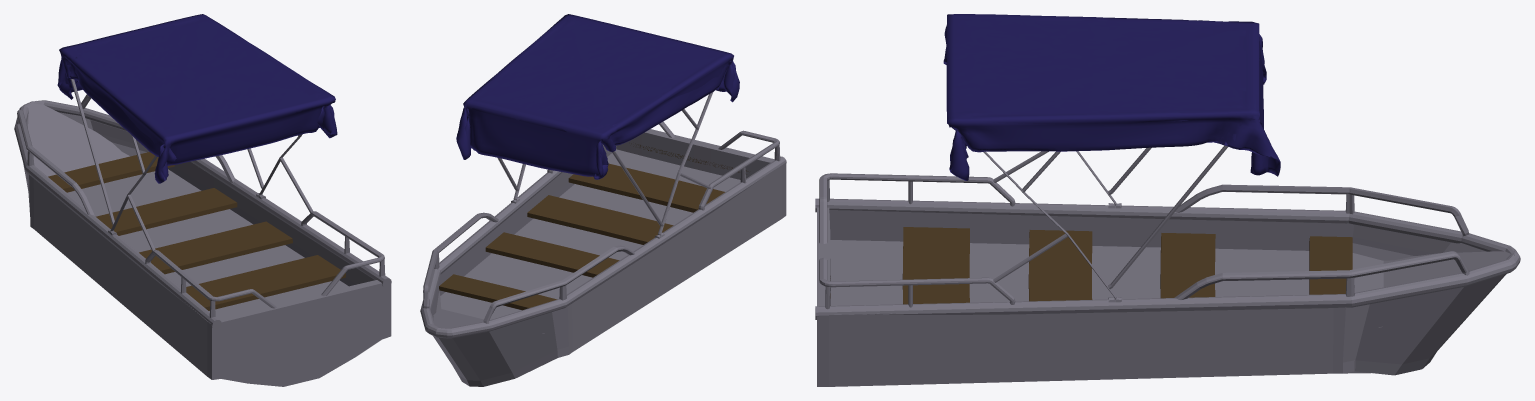
The model's file is barque.fbx.
The picture shows the model from 3 angles, left to right: view 1: azimuth 30°, elevation 25°; view 2: azimuth 150°, elevation 25°; view 3: azimuth 270°, elevation 25°; orthographic projection. The views are drawn at different scales.
Parts seen in each view (by area): view 1: Cube, Plane; view 2: Cube, Plane; view 3: Cube, Plane.
Part boxes in pixels (bbox=[...]): Cube: bbox=[14, 79, 391, 386]; Plane: bbox=[57, 14, 337, 183]; Cube: bbox=[420, 92, 786, 386]; Plane: bbox=[456, 14, 739, 179]; Cube: bbox=[815, 145, 1520, 386]; Plane: bbox=[943, 14, 1280, 180].
Size of the model in its own units: 279 by 335 by 719.
